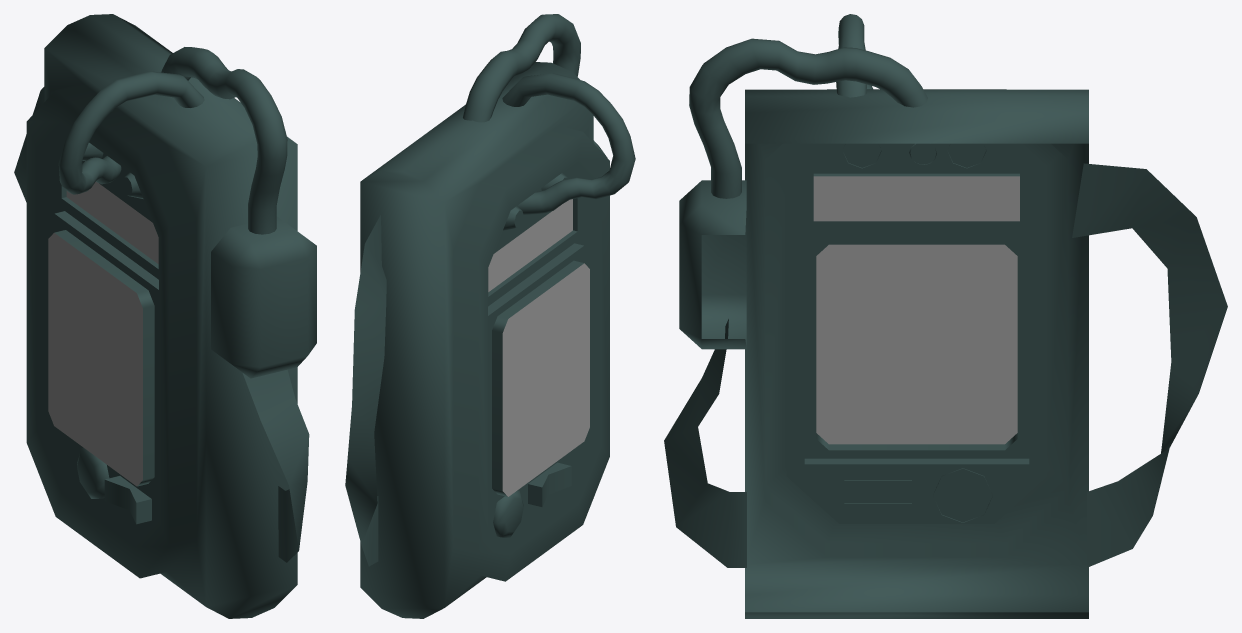
Rendered from Security_terminal (1).fbx.
3 renders of one model, left to right at view 1: azimuth 30°, elevation 25°; view 2: azimuth 150°, elevation 25°; view 3: azimuth 270°, elevation 25°, orthographic. The views are drawn at different scales.
Visible parts, largest first — view 1: Korpus, Panel, wires, Small_sreen; view 2: Korpus, Panel, wires, Small_sreen; view 3: Korpus, Panel, wires, Small_sreen.
Part boxes in pixels (x1=…): Korpus: x1=26, y1=14, x2=316, y2=618; Panel: x1=48, y1=233, x2=142, y2=486; wires: x1=14, y1=87, x2=309, y2=562; Small_sreen: x1=66, y1=182, x2=158, y2=263; Korpus: x1=360, y1=14, x2=635, y2=618; Panel: x1=502, y1=263, x2=589, y2=496; wires: x1=345, y1=215, x2=386, y2=566; Small_sreen: x1=488, y1=199, x2=572, y2=291; Korpus: x1=679, y1=14, x2=1088, y2=618; Panel: x1=816, y1=244, x2=1017, y2=444; wires: x1=664, y1=163, x2=1227, y2=567; Small_sreen: x1=813, y1=176, x2=1019, y2=221.
Bounding box in the file's own units: 27.09 × 74.74 × 66.67.
